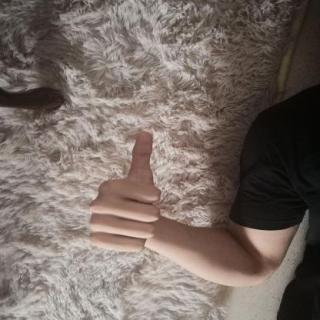ALIF: (75, 119, 168, 258)
